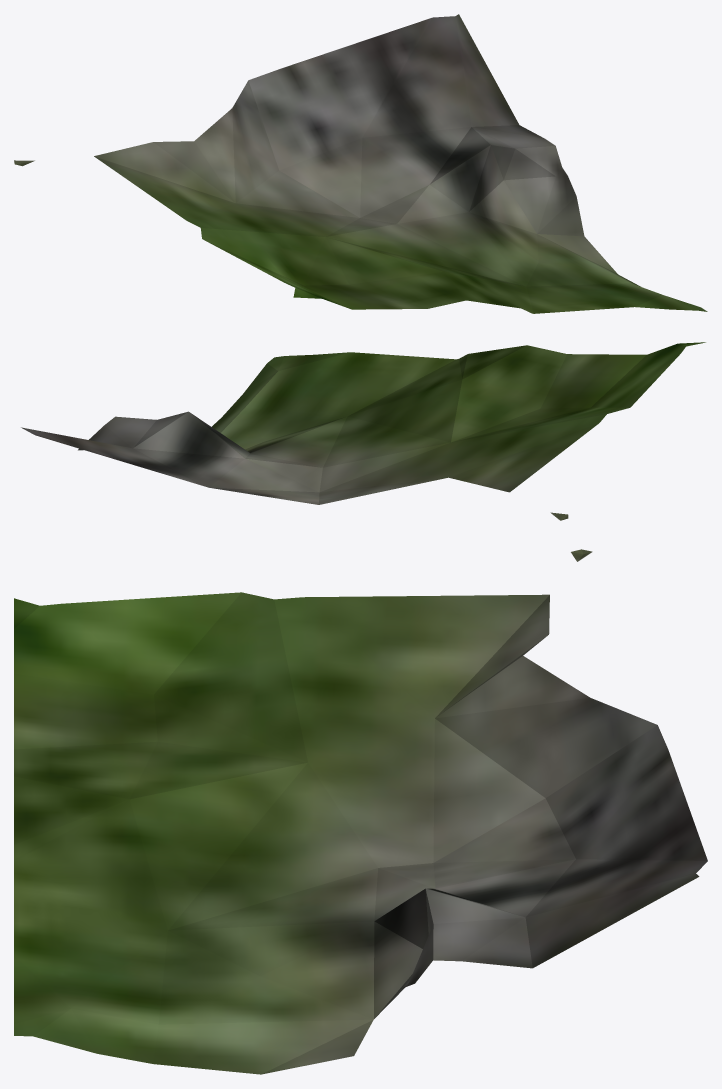
3 renders of one model, top to bottom at view 1: azimuth 30°, elevation 25°; view 2: azimuth 150°, elevation 25°; view 3: azimuth 270°, elevation 25°, orthographic. The views are drawn at different scales.
Size of the model in its own units: 0.6367 by 0.1796 by 0.5706.
Materials: 1 (1 with a texture image).
